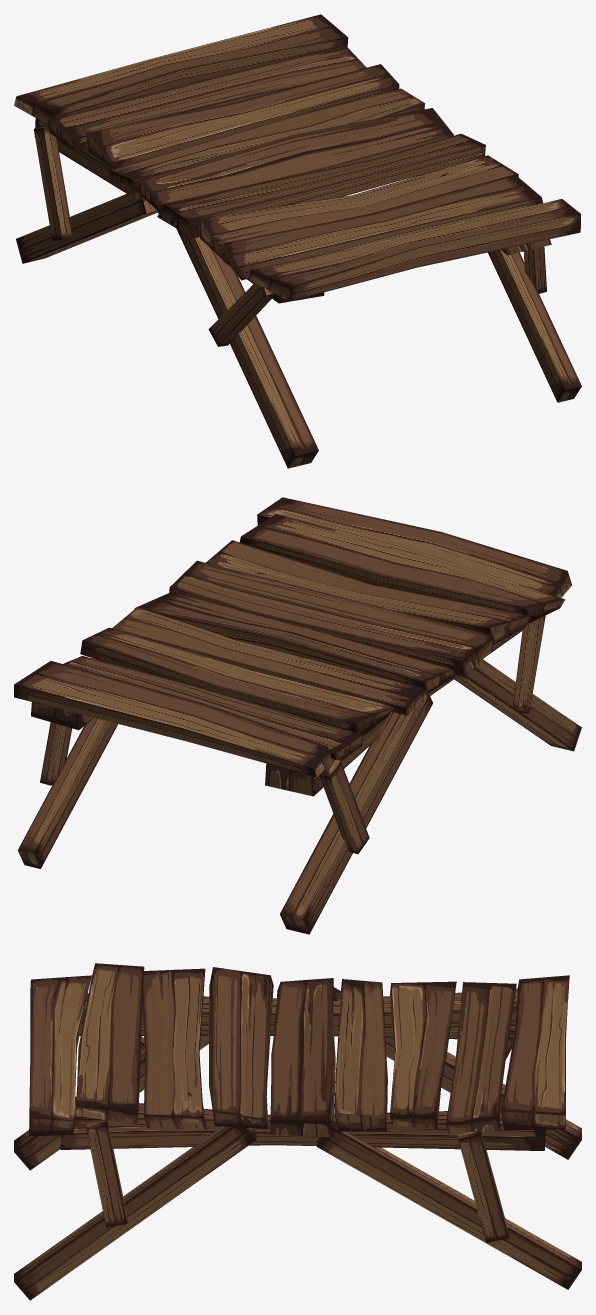
File: SM_PROP_woodbridge_dungeon_07.fbx
3 views of the same model, one above another, from view 1: azimuth 30°, elevation 25°; view 2: azimuth 150°, elevation 25°; view 3: azimuth 270°, elevation 25° (orthographic).
Visible parts, largest first — view 1: SM_PROP_woodbridge_dungeon_07; view 2: SM_PROP_woodbridge_dungeon_07; view 3: SM_PROP_woodbridge_dungeon_07.
Part boxes in pixels (x1=…): SM_PROP_woodbridge_dungeon_07: x1=14, y1=14, x2=581, y2=468; SM_PROP_woodbridge_dungeon_07: x1=14, y1=497, x2=581, y2=934; SM_PROP_woodbridge_dungeon_07: x1=14, y1=963, x2=581, y2=1300.
Size of the model in its own units: 286 by 161 by 428.
